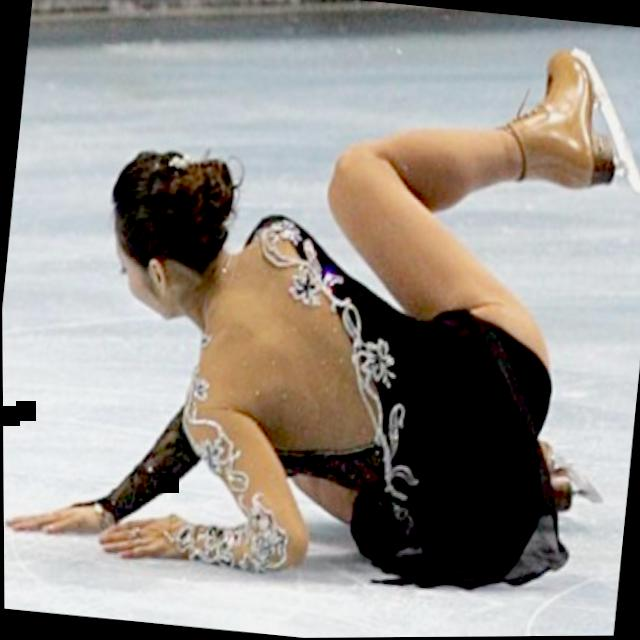Fall-Detected: (10, 0, 640, 615)
